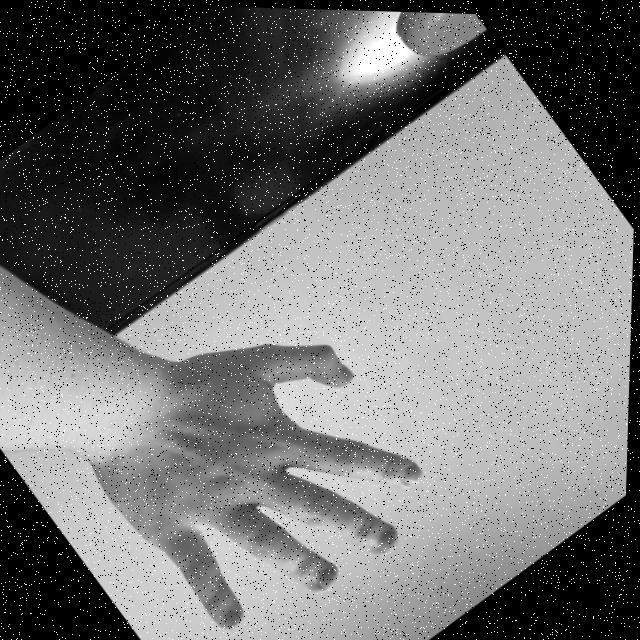no-gloves: (75, 286, 467, 640)
